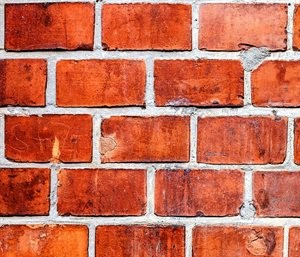brick: (55, 57, 147, 109), (3, 112, 95, 163), (101, 3, 195, 52), (196, 114, 286, 165), (153, 57, 246, 106), (4, 2, 96, 51), (58, 166, 148, 216), (199, 2, 290, 51), (100, 115, 191, 164), (155, 169, 243, 217), (94, 223, 188, 257), (192, 223, 285, 257), (1, 223, 91, 257), (1, 164, 52, 216), (250, 170, 300, 220), (1, 58, 49, 108), (250, 59, 300, 107)
